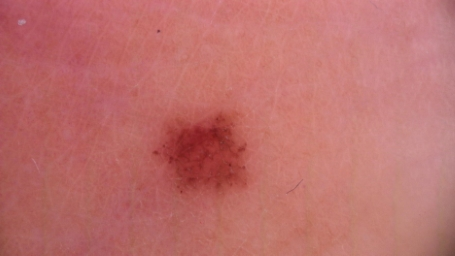nevus: (157, 115, 249, 195)
